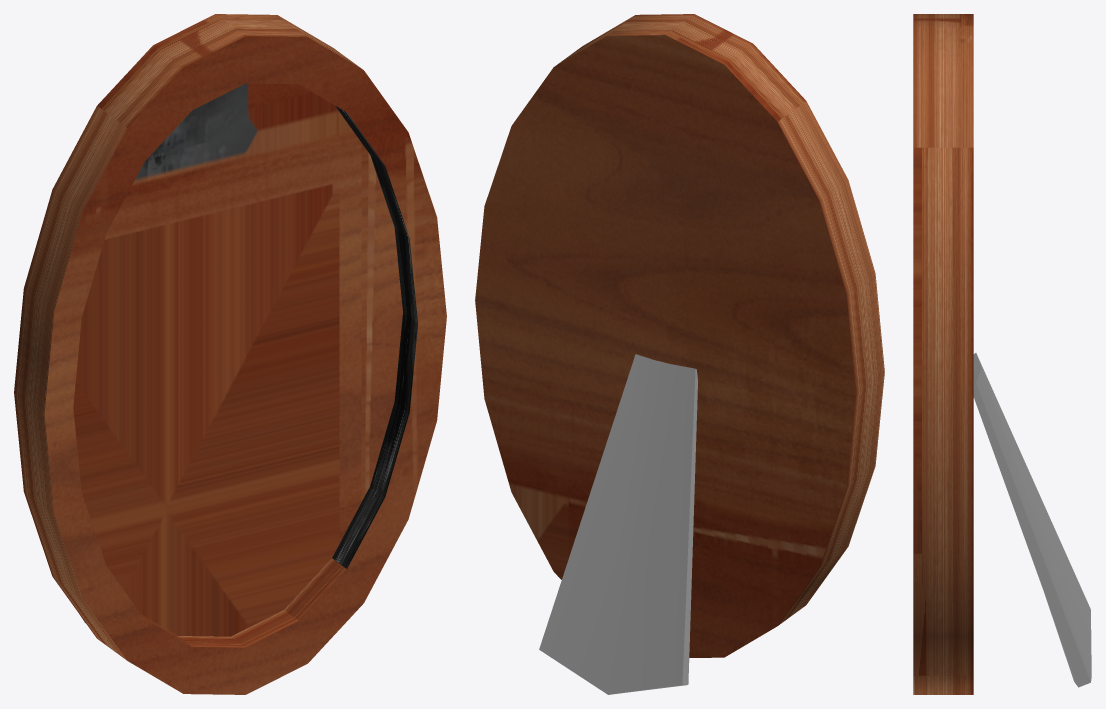
File: round frame.fbx
3 views of the same model, side by side, from view 1: azimuth 30°, elevation 25°; view 2: azimuth 150°, elevation 25°; view 3: azimuth 270°, elevation 25° (orthographic). The views are drawn at different scales.
Parts seen in each view (by area): view 1: pCylinder1; view 2: pCylinder1, pCube5; view 3: pCylinder1, pCube5.
Part boxes in pixels (x1,y1,x2,y2): pCylinder1: (14, 14, 446, 694); pCylinder1: (475, 14, 884, 657); pCube5: (539, 354, 697, 694); pCylinder1: (913, 14, 973, 694); pCube5: (973, 353, 1091, 687).
Bounding box in the file's own units: 4 × 6.26 × 1.55.
